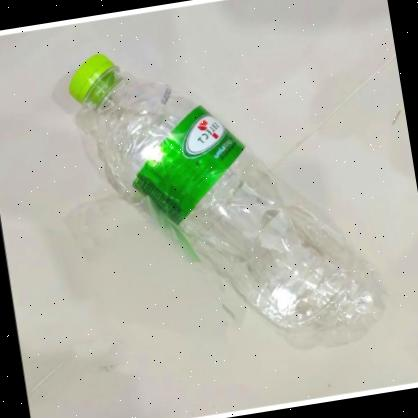bottle: (61, 13, 400, 373)
cap: (64, 50, 126, 106)
label: (120, 99, 255, 230)
